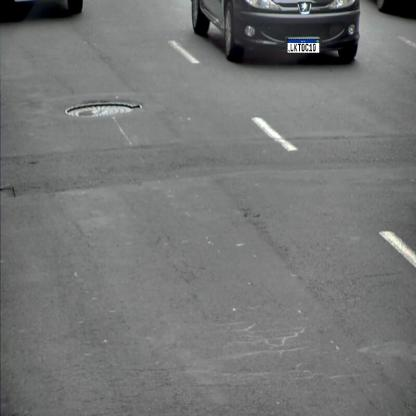PlacaM: (287, 39, 320, 53)
